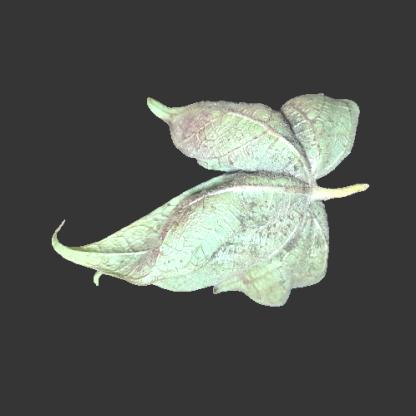curl_stage2: (234, 108, 278, 168), (323, 105, 355, 157), (189, 208, 223, 253), (165, 234, 187, 295), (96, 236, 123, 265)
sooty: (242, 203, 322, 276), (176, 109, 228, 165), (287, 109, 325, 157)
